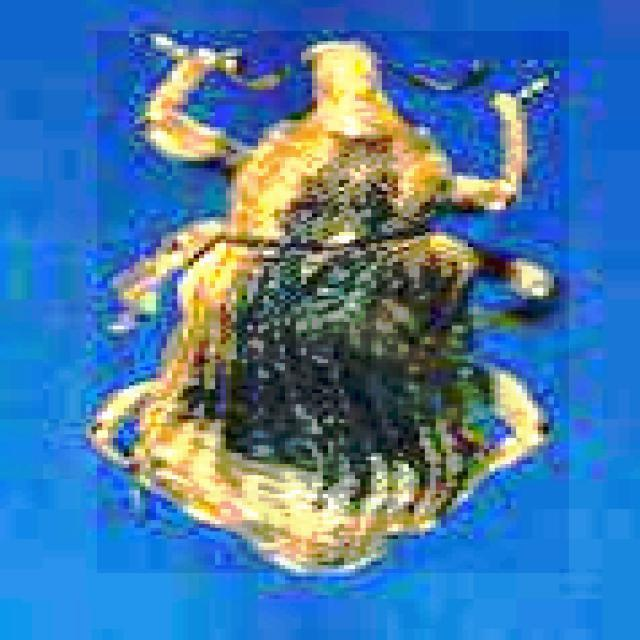rice-bug: (97, 31, 569, 573)
